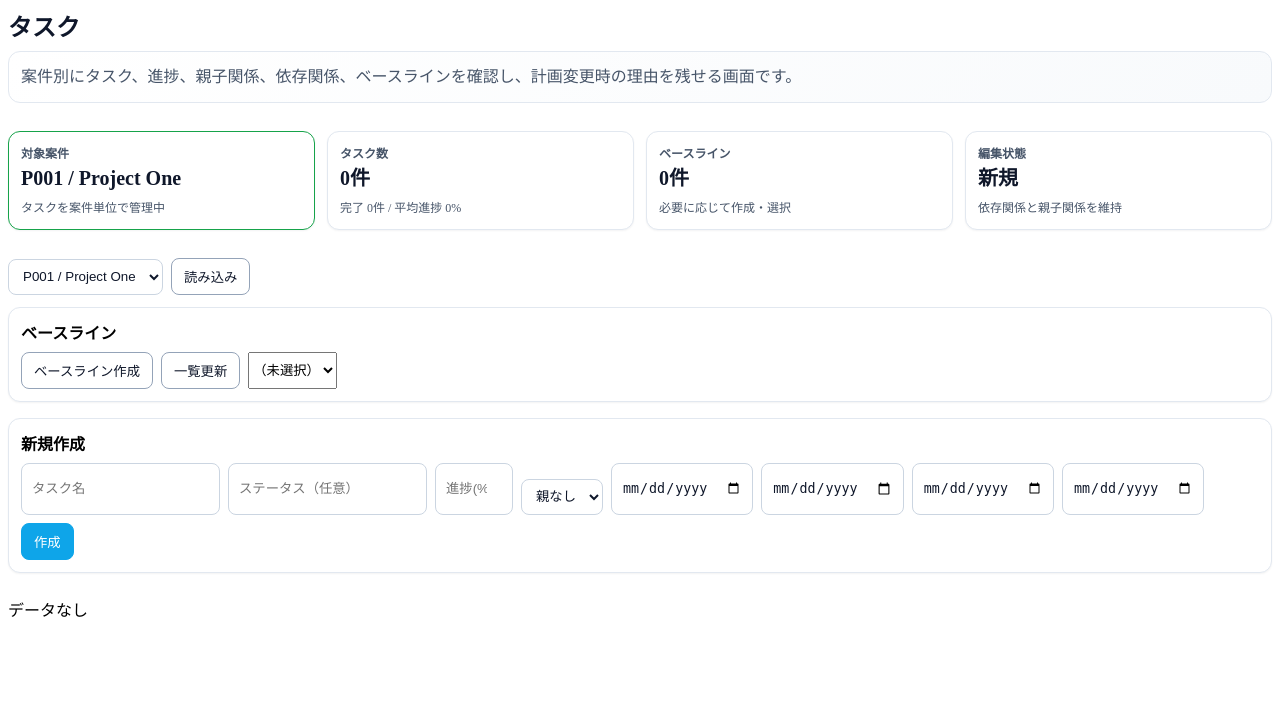
it: ProjectTasks › validates required fields and progress bounds before create
This screenshot has width=1280, height=720.
Click the button "作成": point(47, 541) [21,523,74,560]
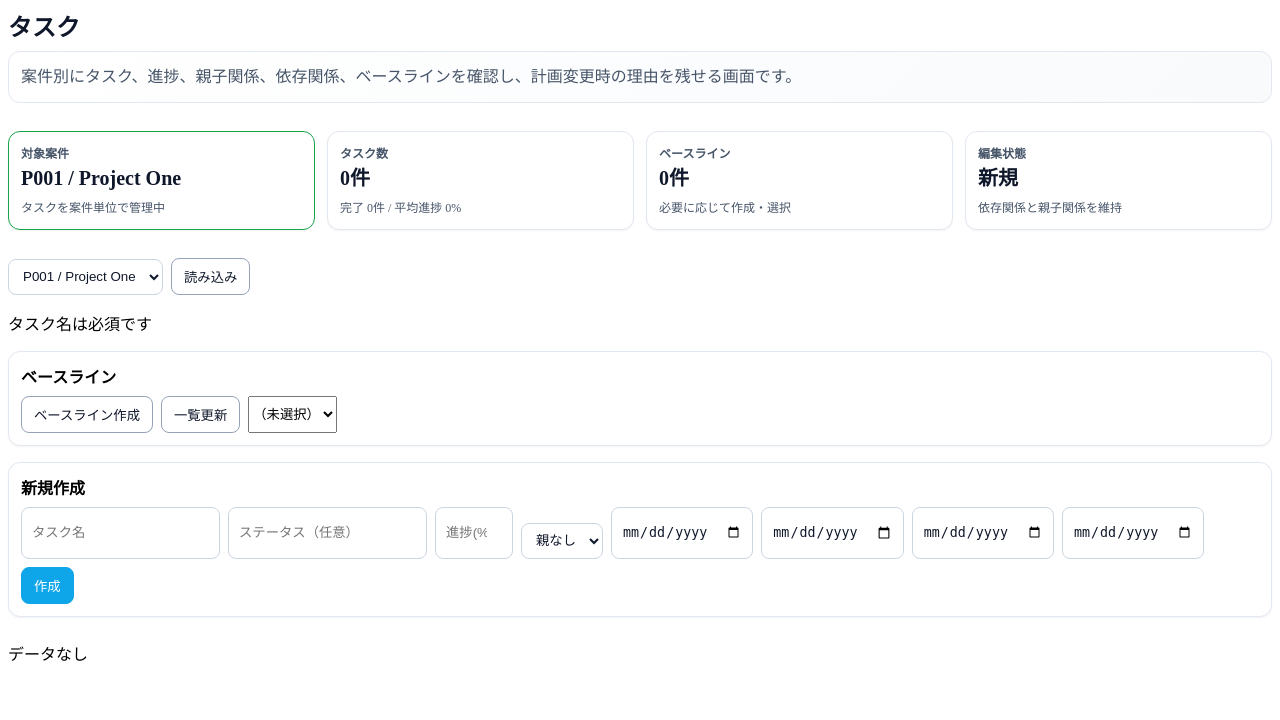
Expected: the text "タスク名は必須です" is shown, [8,316,152,333]
In the field labelled "タスク名": point(120, 533) [21,507,220,559], type "レビュー"
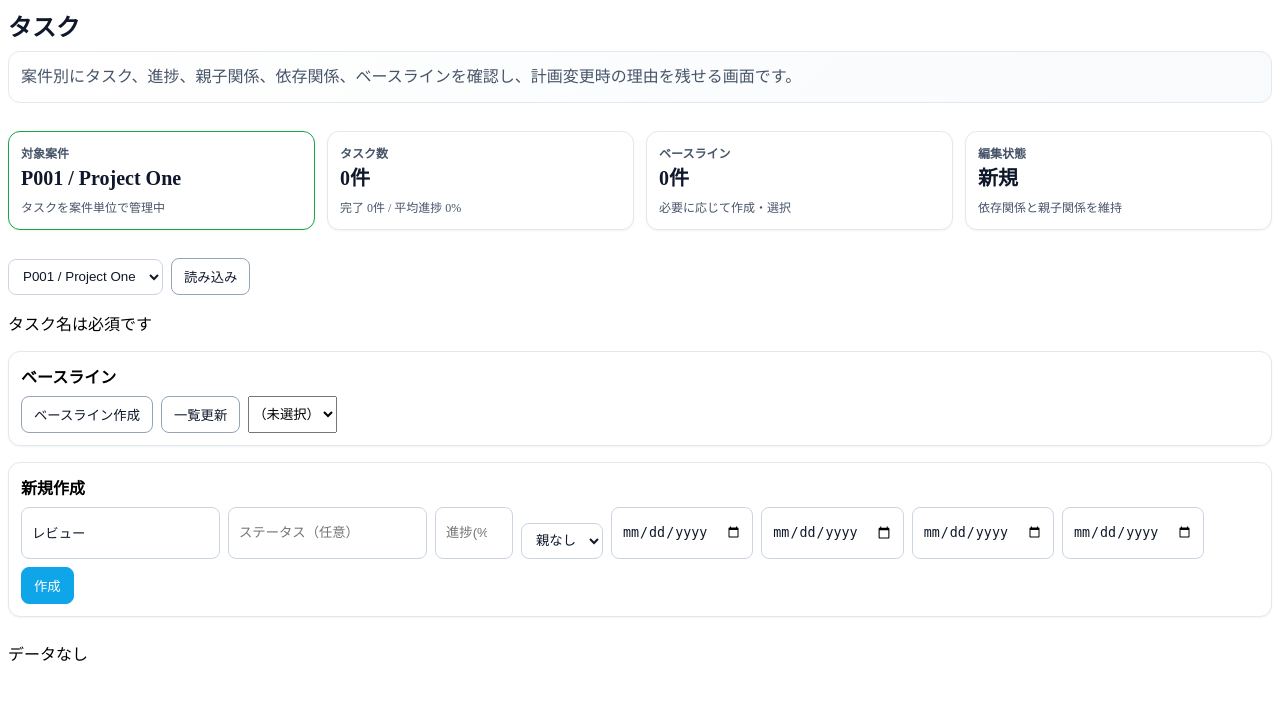
In the number field named "進捗率": point(474, 533) [435,507,513,559], type "101"
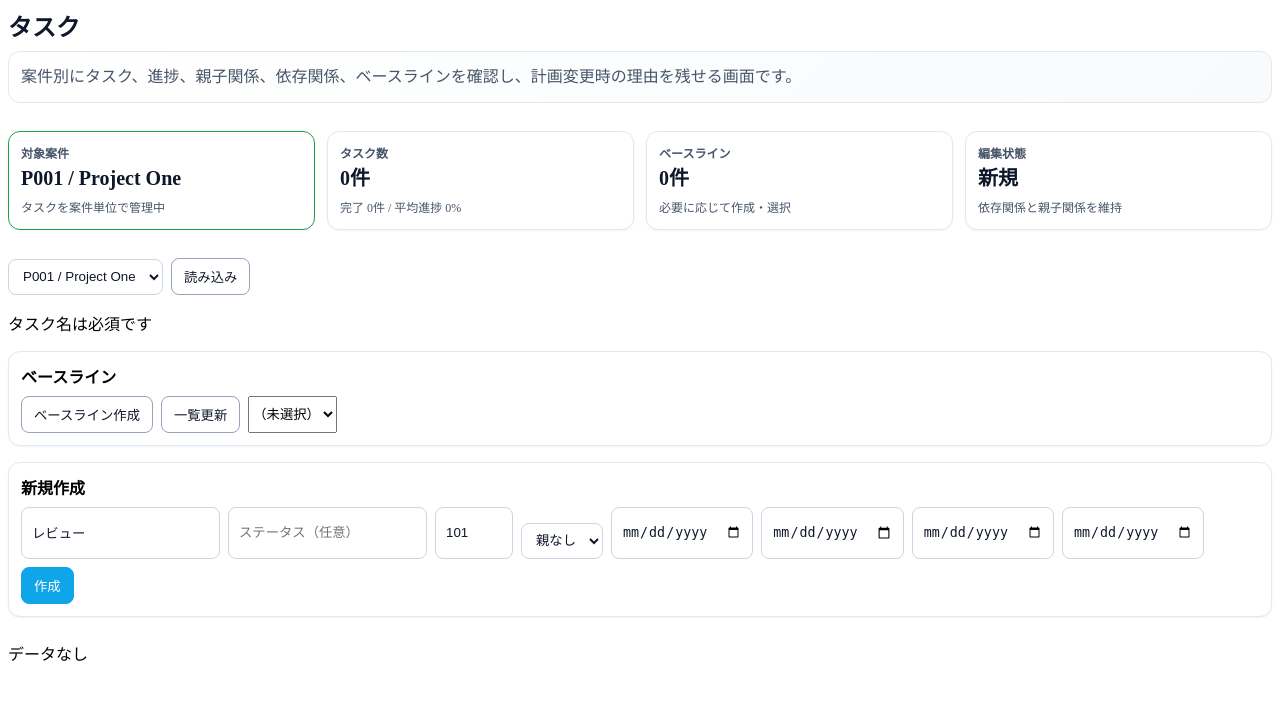
Click the button "作成": point(47, 585) [21,567,74,604]
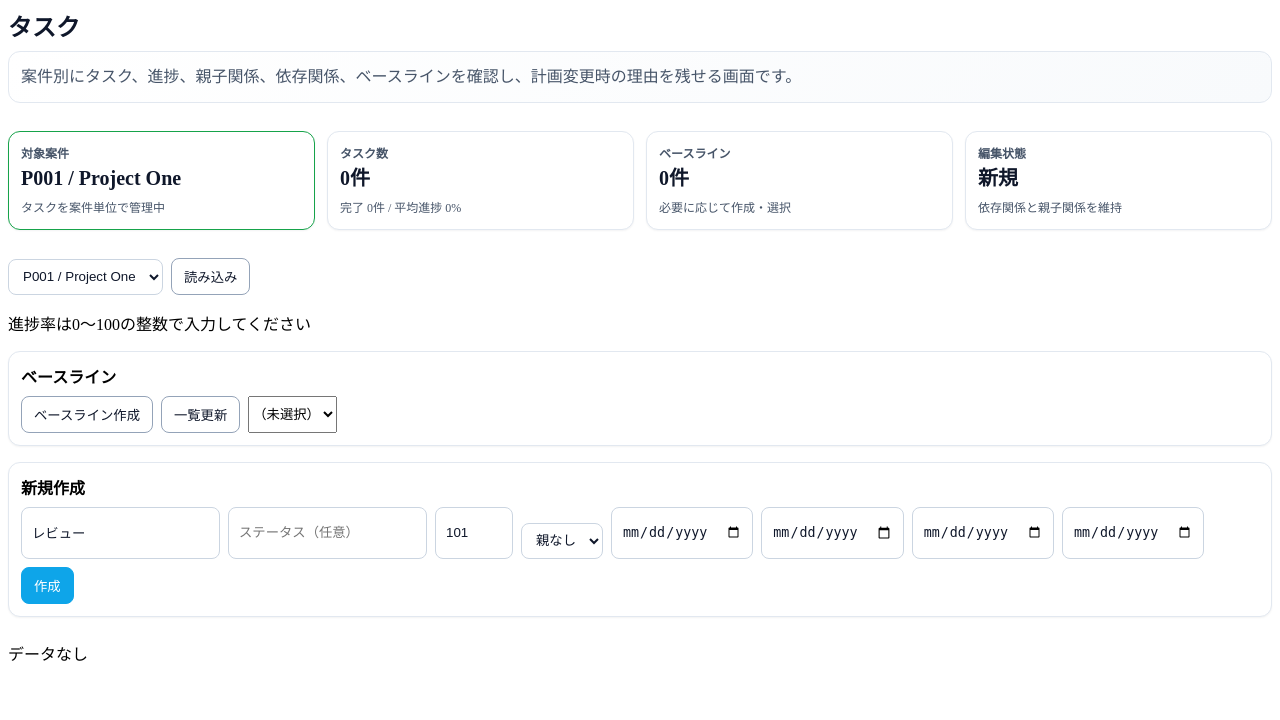
Expected: the text "進捗率は0〜100の整数で入力してください" is shown, [8,316,311,333]
